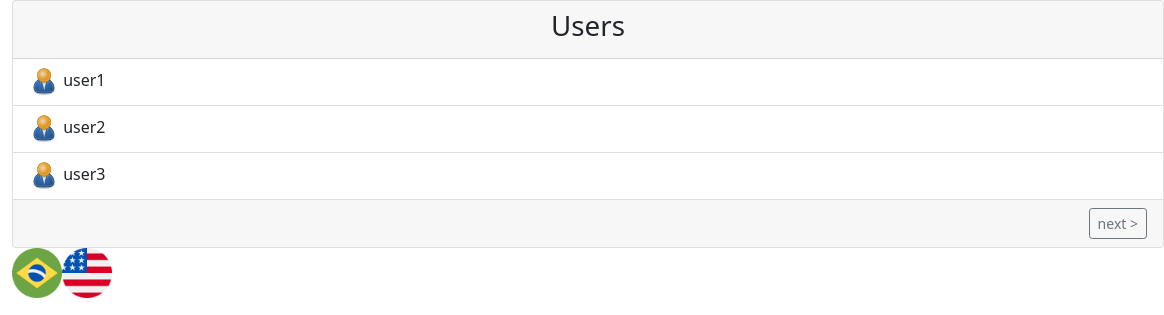
Scenario: Internationalization › displays header and navigation links in portuguese after selecting that language
This screenshot has width=1164, height=315.
Expected: the text "user1" is shown, [29, 67, 106, 97]
Click the button "next >" at (1118, 224), box [1089, 208, 1147, 239]
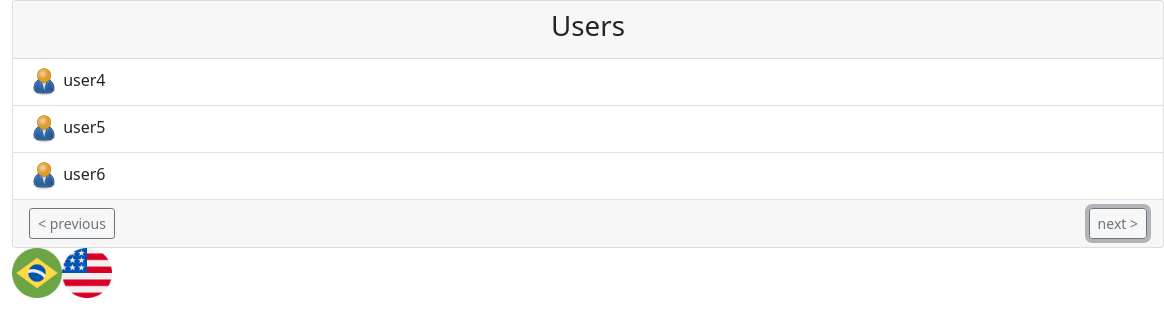
Expected: the text "user4" is shown, [29, 67, 106, 97]
Click the picture titled "Portuguese" at (37, 273), box [12, 248, 62, 298]
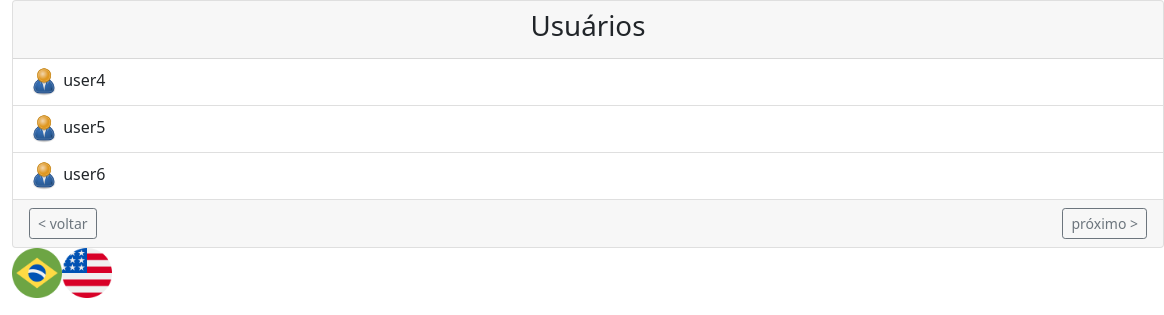
Expected: the heading "Usuários" is shown, [531, 6, 645, 44]
Expected: the button "próximo >" is shown, [1062, 208, 1147, 239]
Expected: the button "< voltar" is shown, [29, 208, 96, 239]
